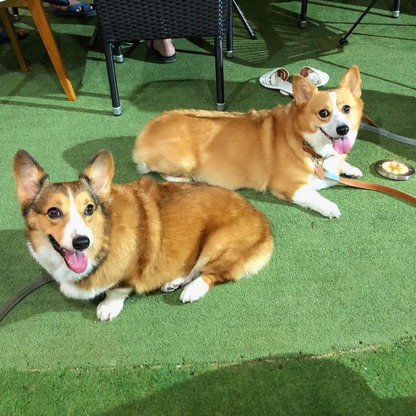Corgi: (11, 148, 284, 314), (124, 55, 383, 227)
